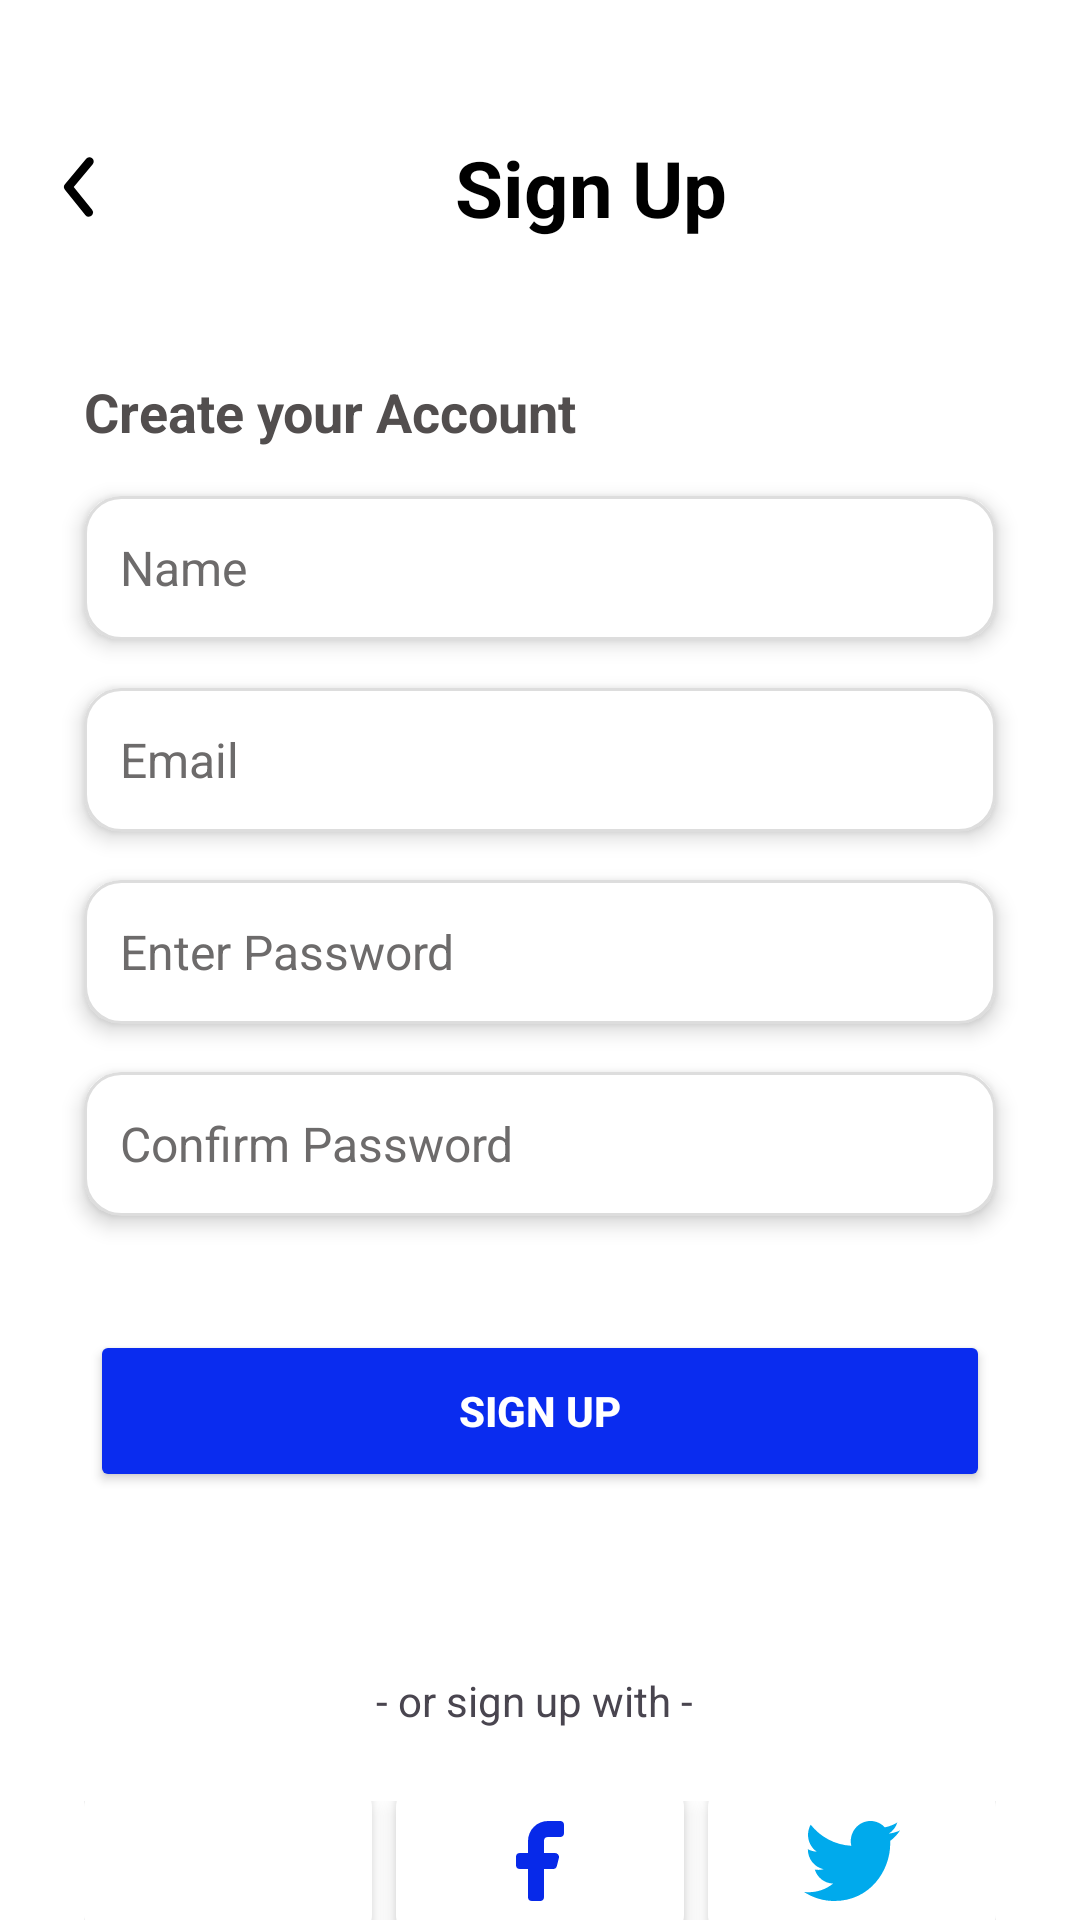

Point at icon controls on the screen. Image size 1080px×1920px, points as (x,y).
back arrow: (79,187)
